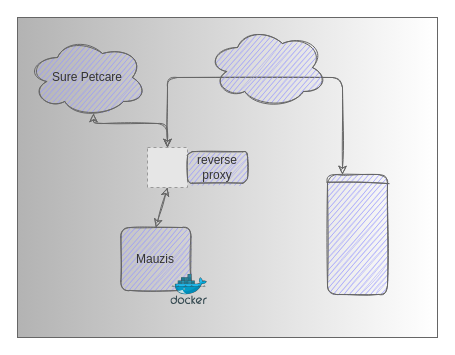
This 455x355 diagram has some shape labels left out. Grey dashed boxes stand in for pictures. Each missing label, with the centre of its shape:
Telegram API: the point at 267,67
Telegram chat: the point at 357,234
